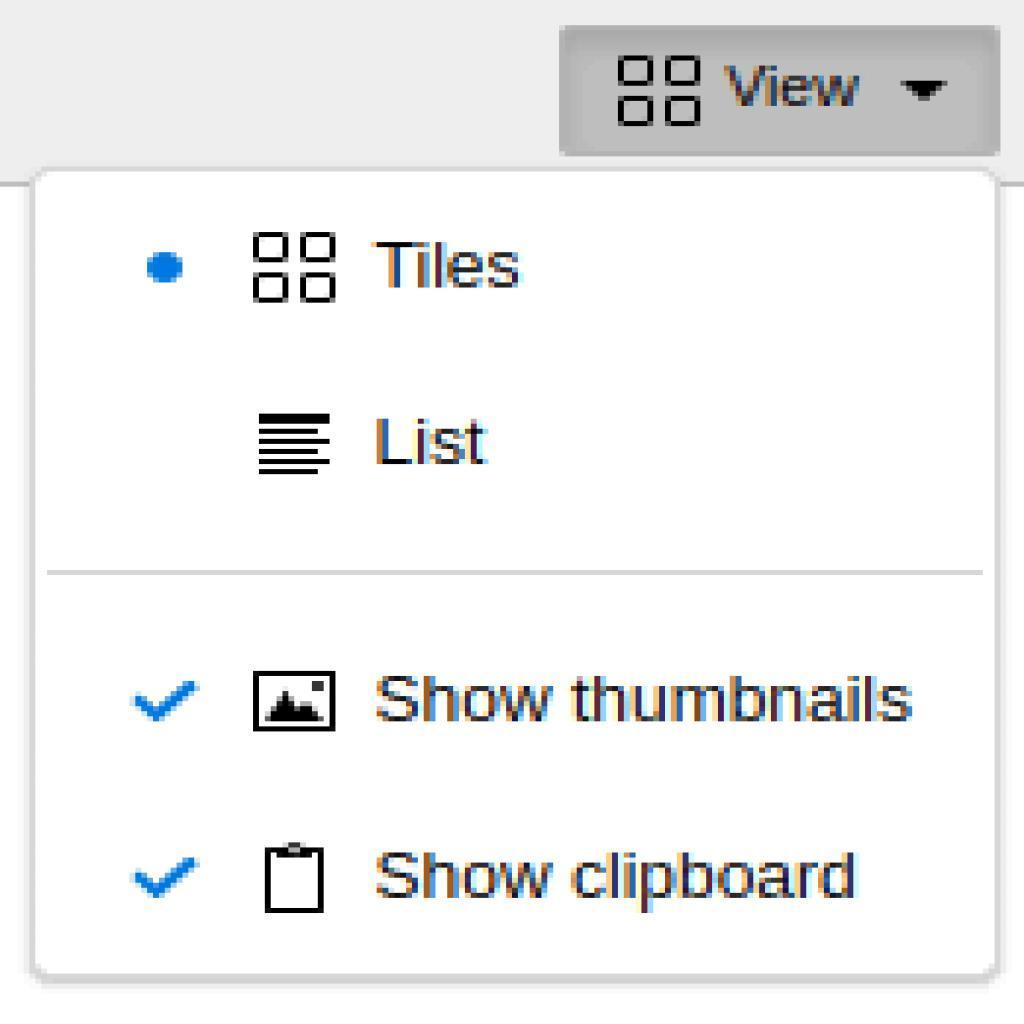dropdown: (558, 24, 997, 159)
icon: (243, 661, 348, 744), (250, 230, 343, 310), (254, 407, 338, 488), (254, 840, 336, 922)
label: (375, 842, 869, 916), (372, 672, 929, 733), (374, 232, 524, 299), (365, 410, 496, 475)
